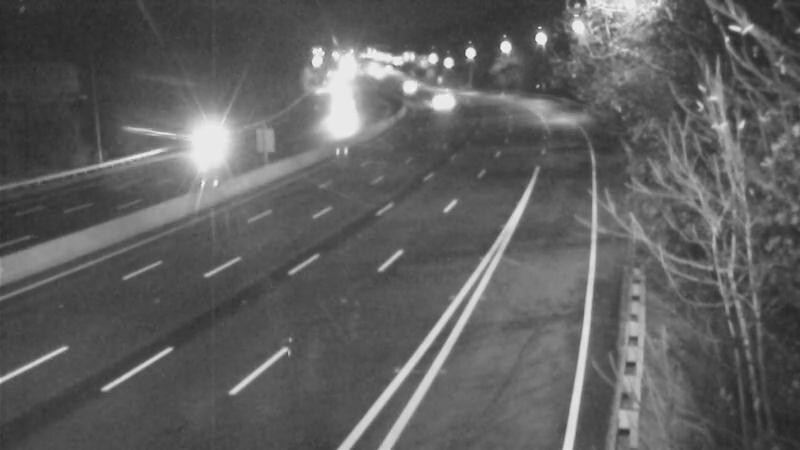vehicle: (381, 57, 431, 107), (416, 71, 466, 121), (169, 116, 219, 166), (315, 95, 365, 145)
